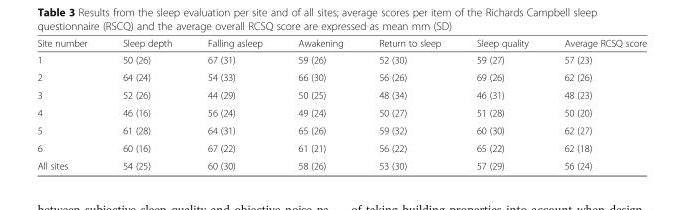table: (36, 37, 646, 171)
table column: (545, 37, 646, 171), (360, 37, 458, 171), (189, 37, 279, 171), (458, 37, 545, 171), (104, 37, 189, 171), (279, 37, 360, 171), (36, 37, 104, 171)
table column header: (36, 37, 646, 50)
table row: (36, 50, 646, 68), (36, 85, 646, 103), (36, 103, 646, 121), (36, 138, 646, 156), (36, 68, 646, 85), (36, 121, 646, 138), (36, 156, 646, 171), (36, 37, 646, 50)
